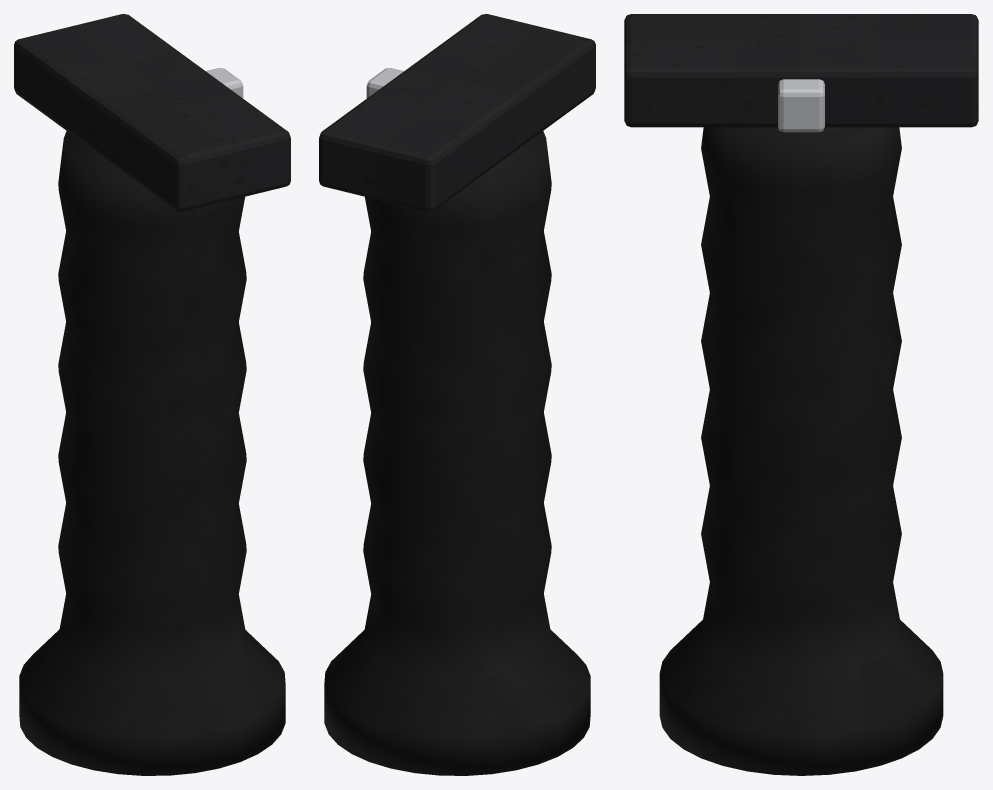
File: grip_heavy.glb
The picture shows the model from 3 angles, left to right: view 1: azimuth 30°, elevation 25°; view 2: azimuth 150°, elevation 25°; view 3: azimuth 270°, elevation 25°; orthographic projection. The views are drawn at different scales.
Parts seen in each view (by area): view 1: grip, g_clamp, g_screw; view 2: grip, g_clamp, g_screw; view 3: grip, g_clamp, g_screw.
Boxes of the visible parts, x1,y1,x2,y2 form: grip: [19, 131, 285, 775]; g_clamp: [14, 14, 290, 211]; g_screw: [206, 68, 243, 98]; grip: [324, 131, 590, 775]; g_clamp: [319, 14, 595, 211]; g_screw: [366, 68, 403, 98]; grip: [659, 127, 943, 775]; g_clamp: [624, 14, 978, 127]; g_screw: [778, 79, 824, 132].
Bounding box in the file's own units: 0.048 × 0.126 × 0.06.
3 materials, 2 textured.
